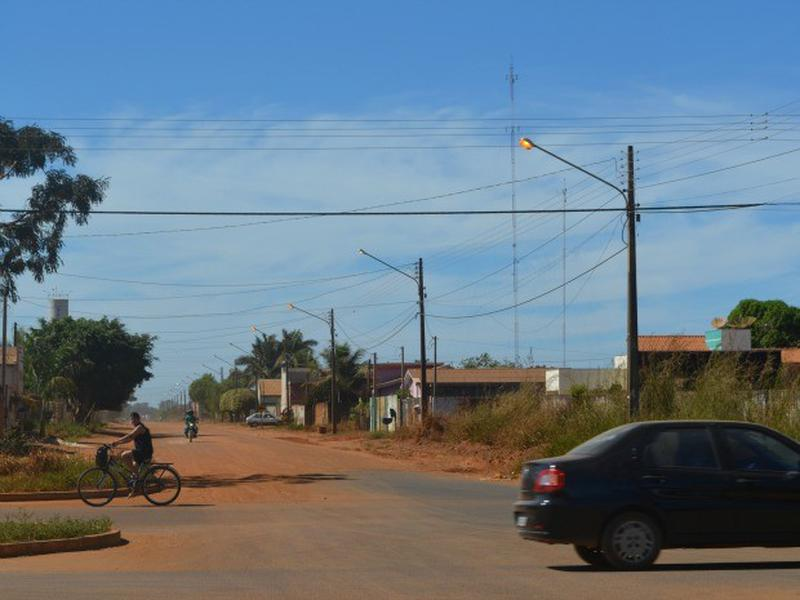IP: (516, 122, 624, 198), (353, 239, 417, 279), (286, 296, 334, 333)
